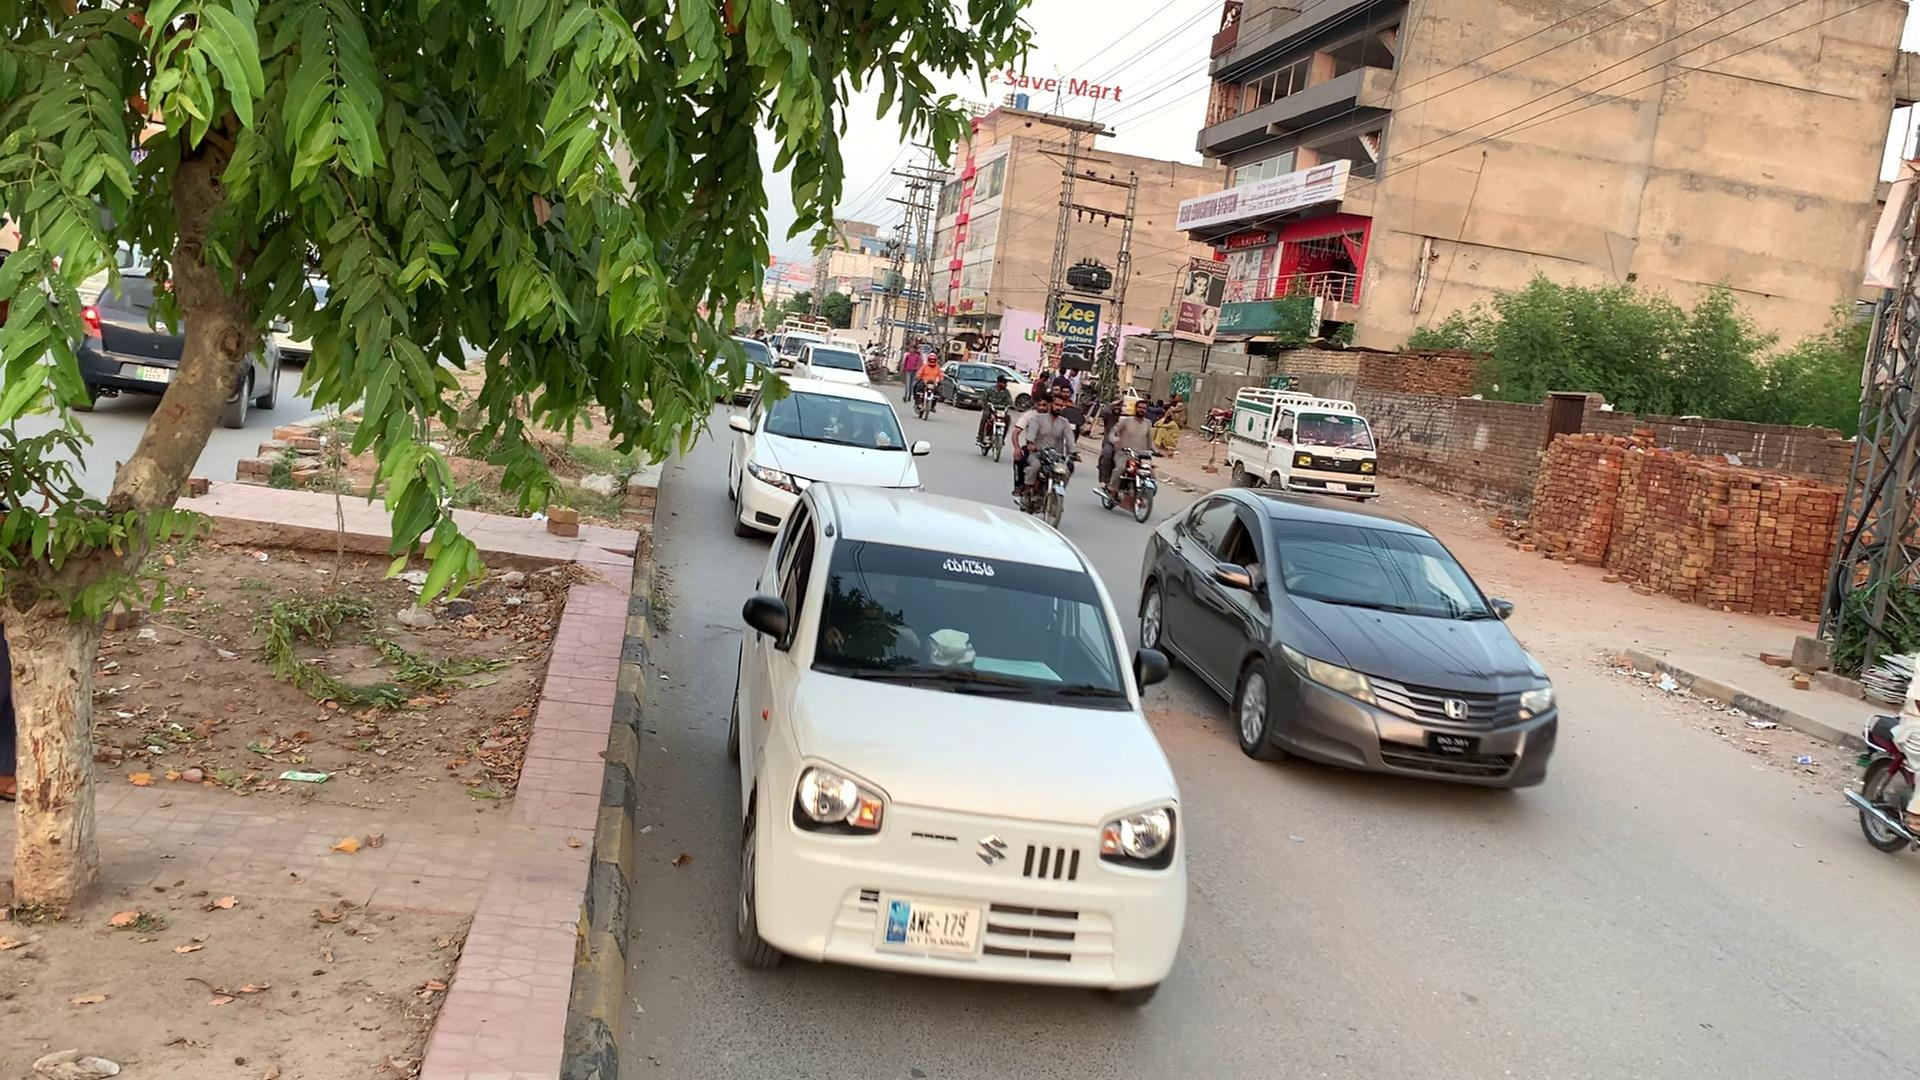windshield: (807, 530, 1150, 724), (1269, 517, 1503, 626)
